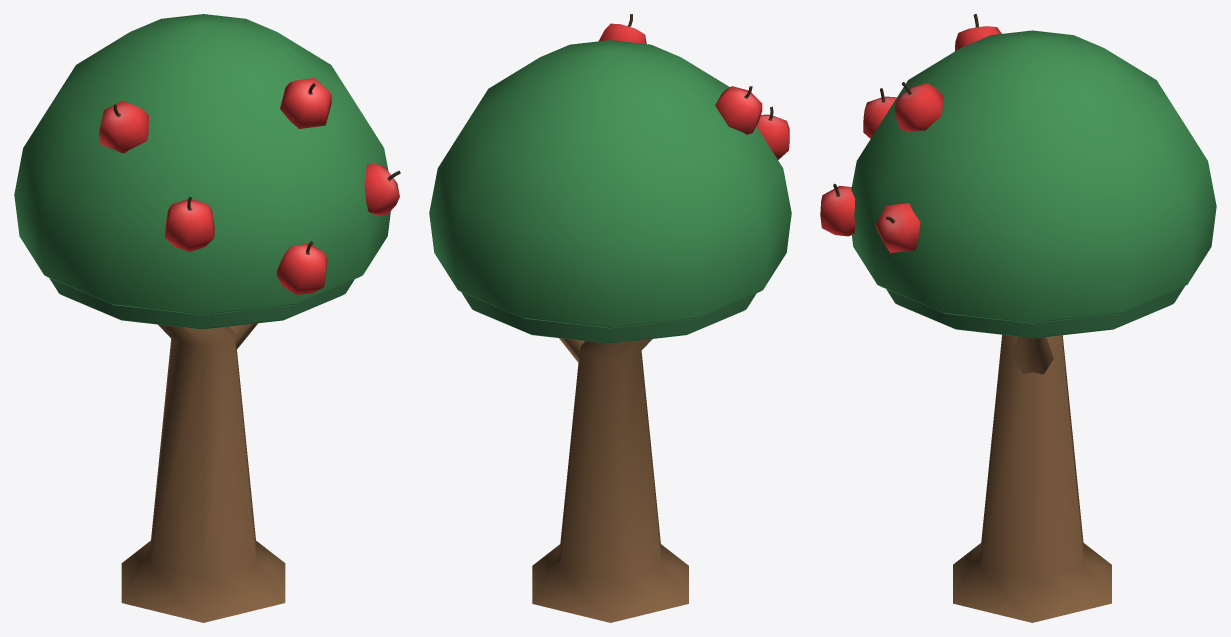
The model's file is tree_apple.fbx.
3 views of the same model, side by side, from view 1: azimuth 30°, elevation 25°; view 2: azimuth 150°, elevation 25°; view 3: azimuth 270°, elevation 25° (orthographic). The views are drawn at different scales.
Parts seen in each view (by area): view 1: tree_fruit, apple, apple1, apple2, apple4, apple3; view 2: tree_fruit, apple4, apple, apple2; view 3: tree_fruit, apple2, apple3, apple1, apple, apple4.
Part boxes in pixels (x1=…): tree_fruit: x1=14, y1=14, x2=390, y2=622; apple: x1=165, y1=196, x2=214, y2=251; apple1: x1=276, y1=241, x2=327, y2=294; apple2: x1=280, y1=78, x2=331, y2=128; apple4: x1=99, y1=101, x2=148, y2=153; apple3: x1=364, y1=164, x2=400, y2=215; tree_fruit: x1=429, y1=40, x2=791, y2=622; apple4: x1=715, y1=86, x2=762, y2=134; apple: x1=756, y1=106, x2=789, y2=159; apple2: x1=599, y1=14, x2=646, y2=43; tree_fruit: x1=851, y1=30, x2=1216, y2=622; apple2: x1=894, y1=82, x2=943, y2=131; apple3: x1=875, y1=203, x2=920, y2=252; apple1: x1=820, y1=183, x2=855, y2=236; apple: x1=863, y1=88, x2=896, y2=138; apple4: x1=955, y1=14, x2=1001, y2=51.
Size of the model in its own units: 4.06 by 6.59 by 4.36.
